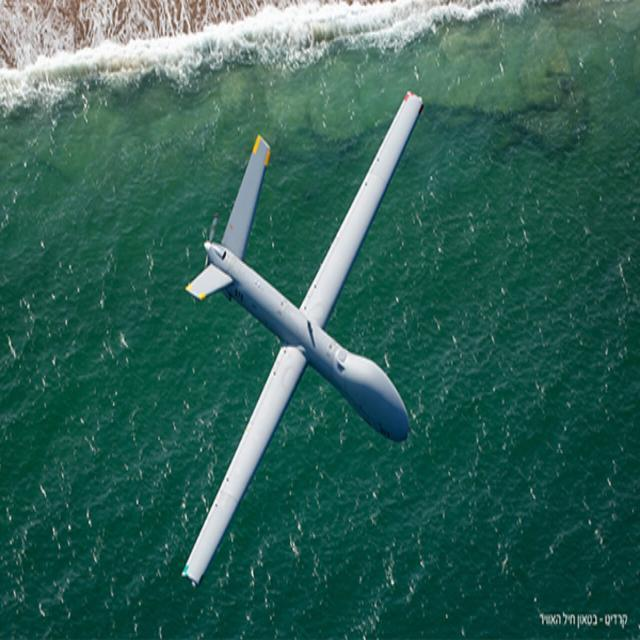iha: (176, 90, 426, 589)
